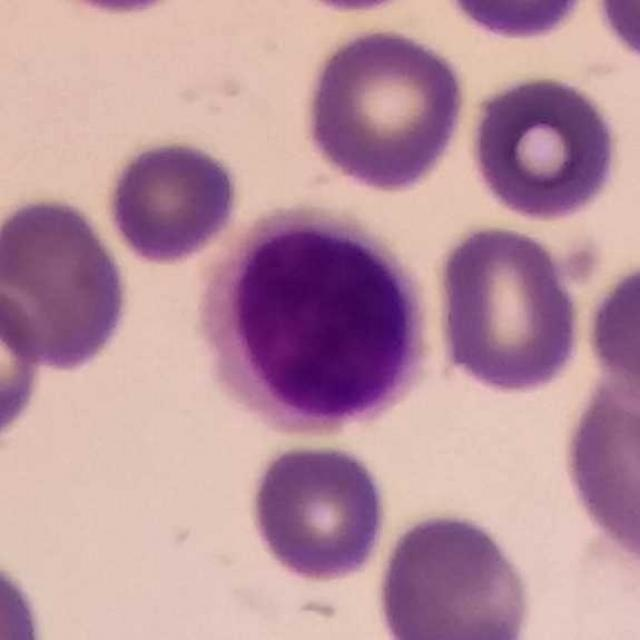Lymphocyte: (197, 200, 441, 442)
RBC: (298, 23, 471, 195), (429, 220, 586, 398), (464, 69, 626, 225), (0, 191, 134, 373), (370, 505, 538, 640), (244, 438, 390, 586), (102, 135, 244, 266), (555, 365, 640, 568), (581, 254, 640, 405), (0, 276, 48, 460), (431, 0, 599, 45), (0, 546, 52, 638), (590, 0, 640, 72), (75, 0, 166, 20)
